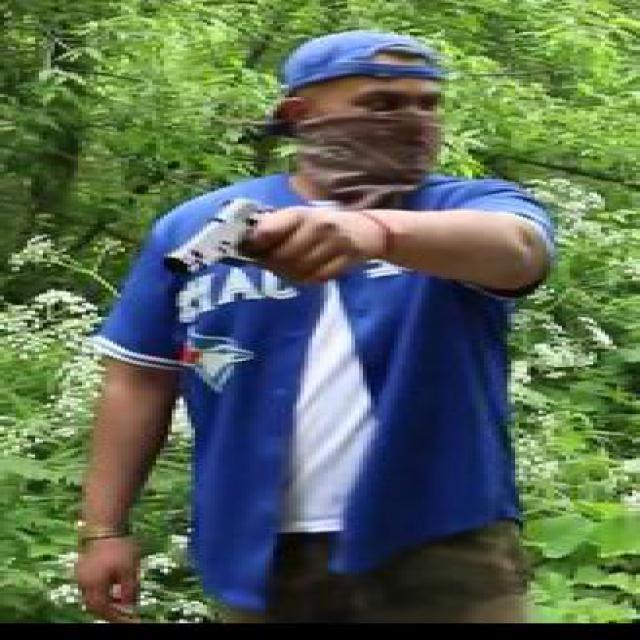Gun: (164, 193, 320, 279)
